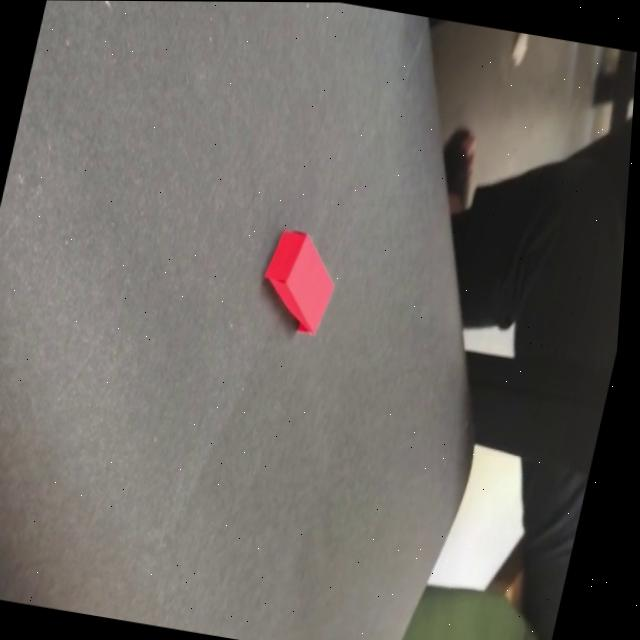red block: (253, 224, 348, 337)
